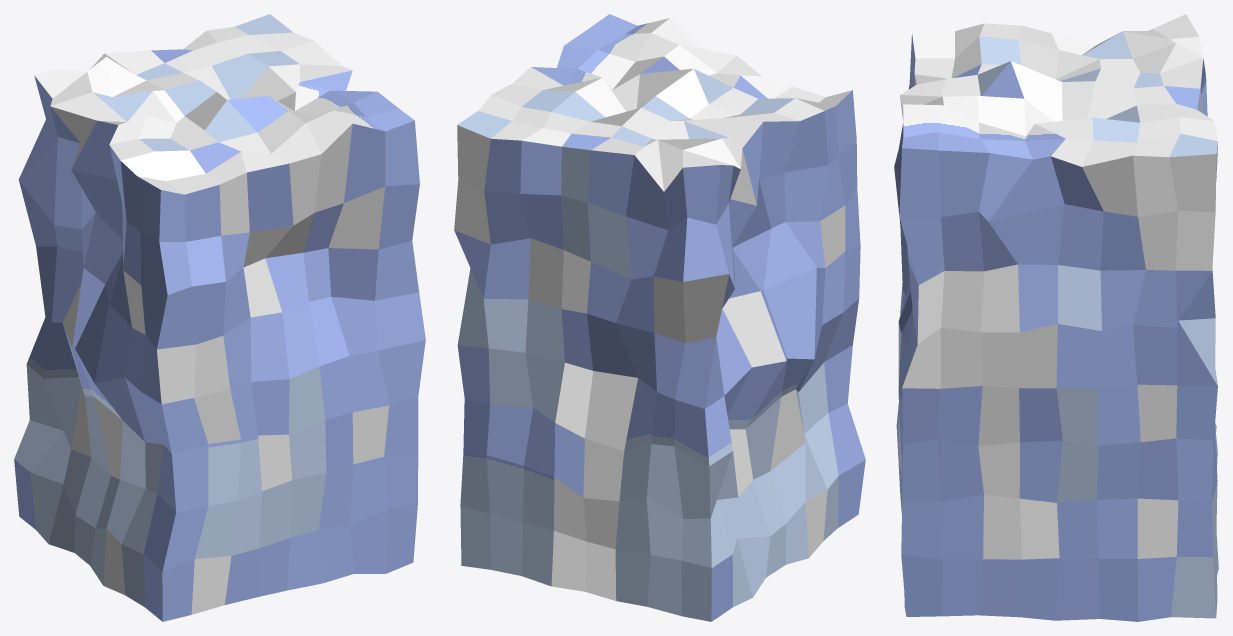
Rendered from CLOUD.glb.
3 views of the same model, side by side, from view 1: azimuth 30°, elevation 25°; view 2: azimuth 150°, elevation 25°; view 3: azimuth 270°, elevation 25° (orthographic). The views are drawn at different scales.
Parts seen in each view (by area): view 1: Cloud; view 2: Cloud; view 3: Cloud.
Part boxes in pixels (x1,y1,x2,y2): Cloud: (14, 14, 425, 621); Cloud: (454, 14, 865, 621); Cloud: (894, 14, 1218, 621).
Bounding box in the file's own units: 4.34 × 6.95 × 4.18.
1 material, 1 textured.
